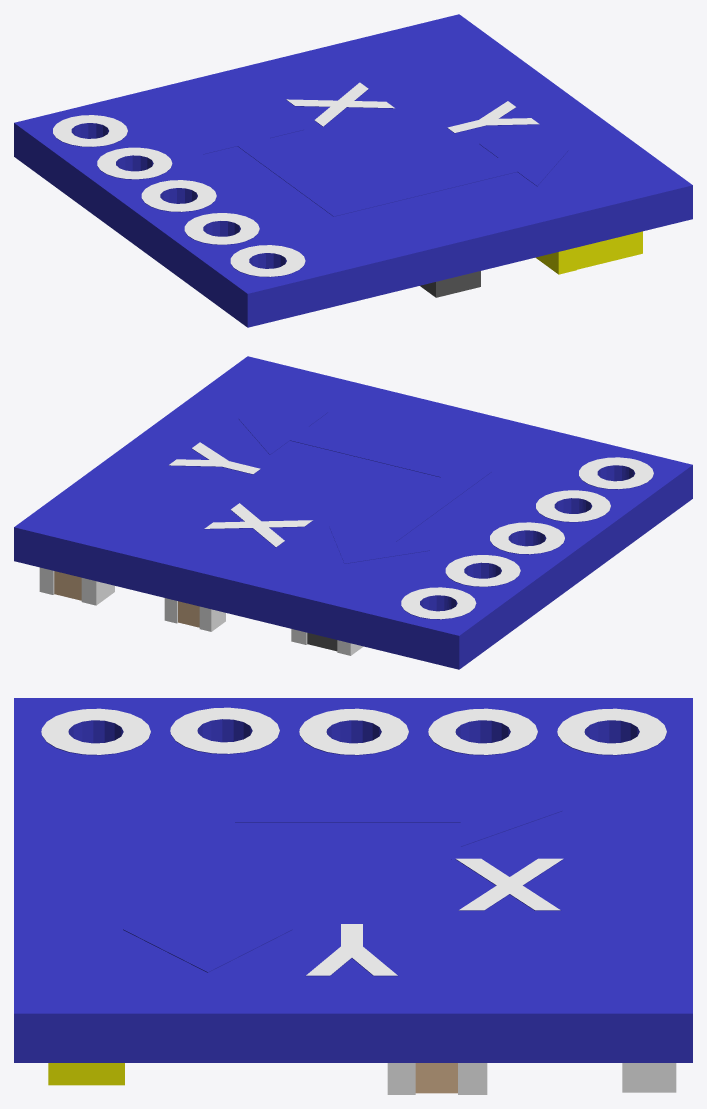
The model's file is model_gy271-DXYucju4.glb.
The picture shows the model from 3 angles, top to bottom: view 1: azimuth 30°, elevation 25°; view 2: azimuth 150°, elevation 25°; view 3: azimuth 270°, elevation 25°; orthographic projection. The views are drawn at different scales.
Bounding box in the file's own units: 11 × 1.62 × 10.
